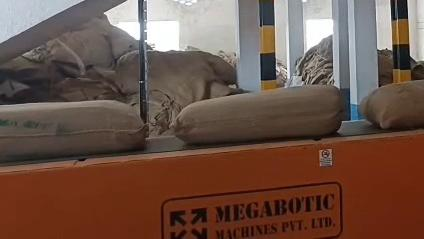box: (174, 86, 343, 144), (0, 101, 144, 160), (361, 81, 424, 129)
